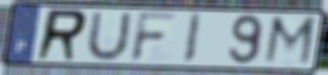9: (227, 13, 266, 68)
F: (128, 10, 181, 64)
I: (180, 12, 204, 66)
M: (260, 14, 320, 69)
R: (33, 7, 90, 63)
U: (83, 9, 134, 64)
